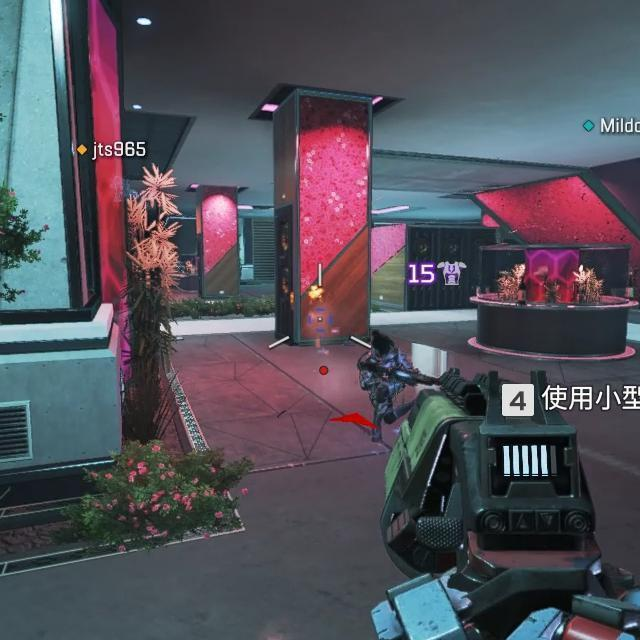avatar: (355, 328, 413, 447)
